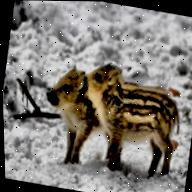boar: (76, 60, 192, 176), (31, 56, 144, 174)
